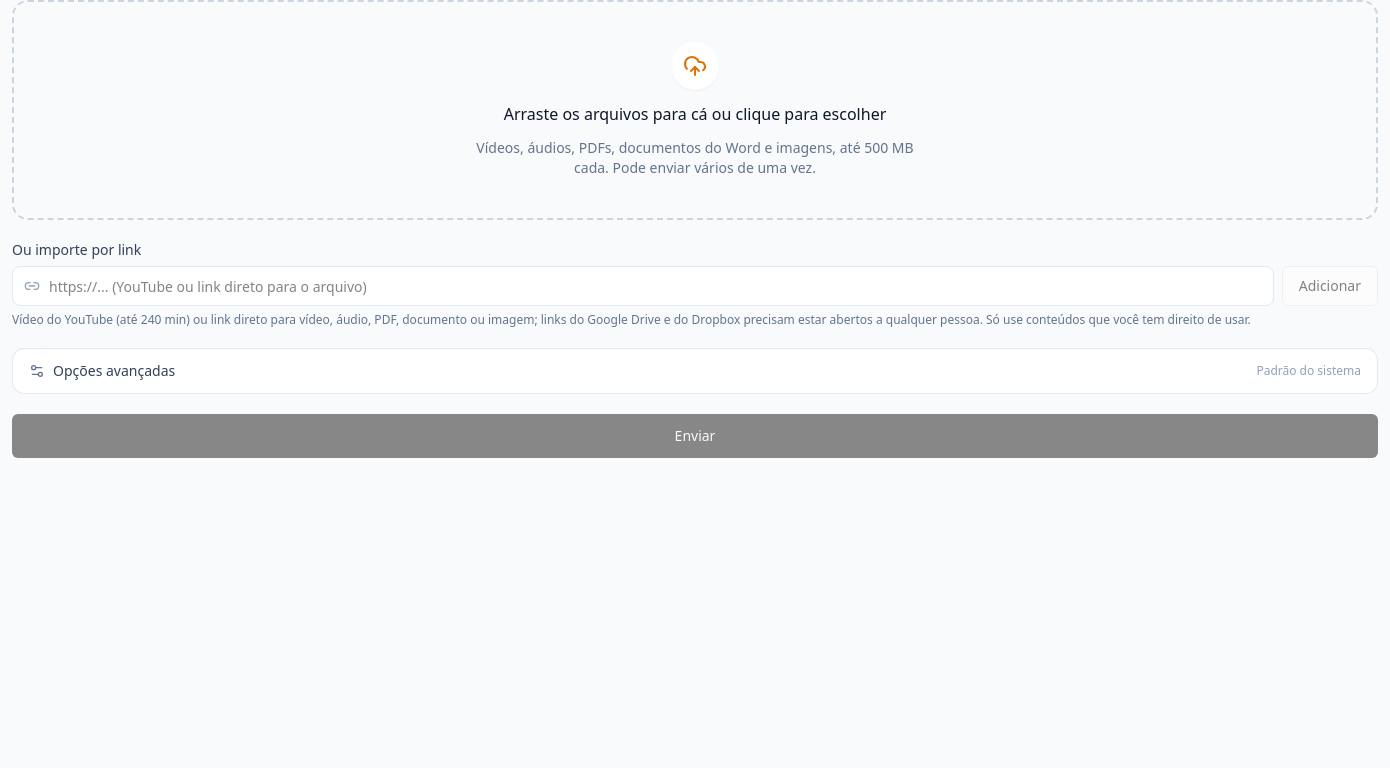
it: UploadForm › importa um link do YouTube pela mesma fila e mostra o título do vídeo
This screenshot has width=1390, height=768.
Type "arquivo.pdf" into the field labelled "Ou importe por link".
click(643, 286); type("arquivo.pdf")  # box x1=12 y1=266 x2=1274 y2=306
Then press Enter
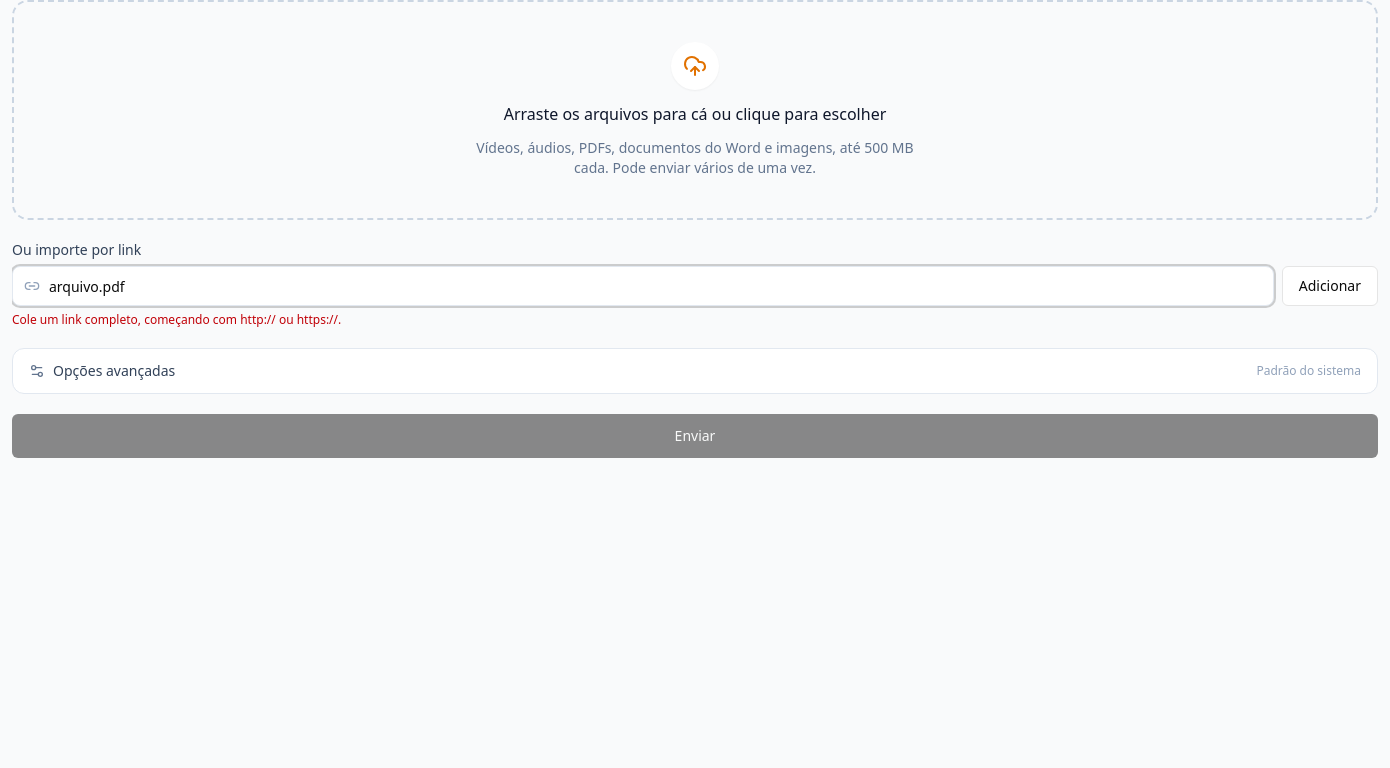
Now the text "Cole um link completo, começando com http:// ou https://." is shown, box x1=12 y1=311 x2=341 y2=328
Replace the text in the field labelled "Ou importe por link" with "https://youtu.be/jNQXAC9IVRw" at (643, 286), box x1=12 y1=266 x2=1274 y2=306
Then press Enter
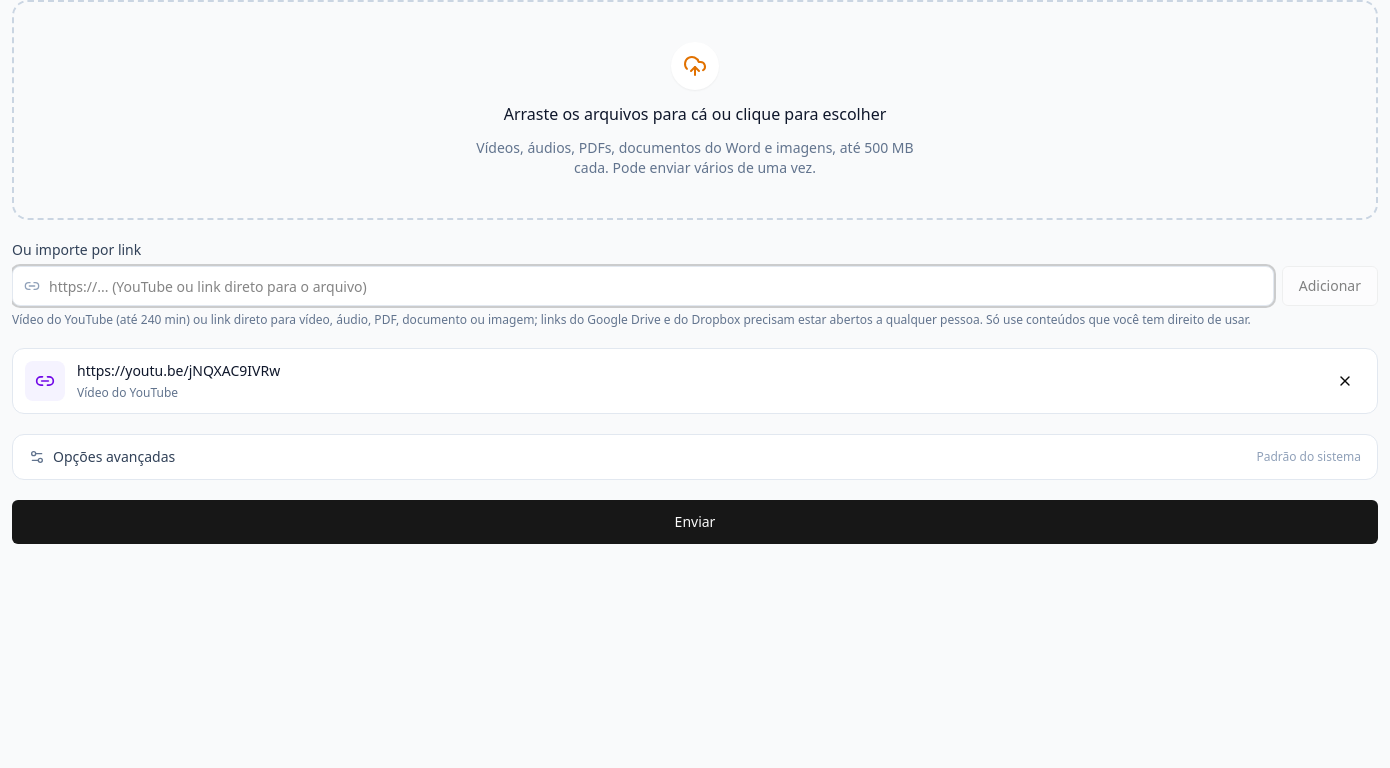
Click the button "Enviar".
click(695, 522)  # box x1=12 y1=500 x2=1378 y2=544
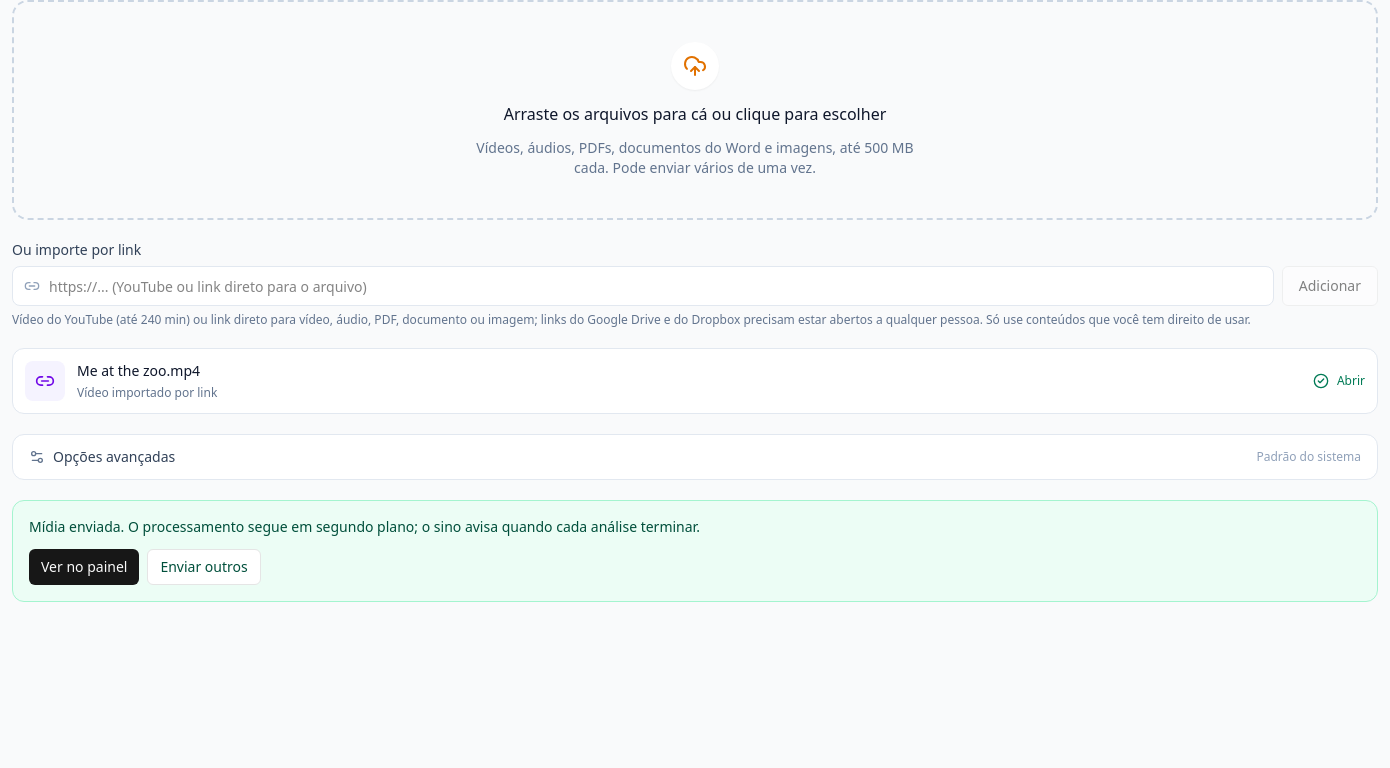
Now the text "Me at the zoo.mp4" is shown, box x1=77 y1=361 x2=200 y2=380
